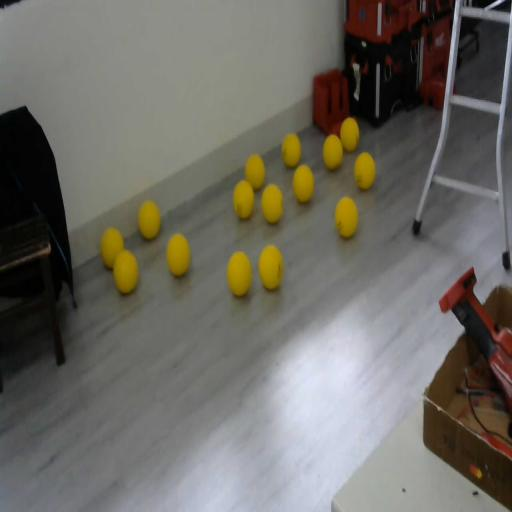FUEL: (226, 250, 252, 297), (112, 248, 138, 295), (258, 243, 283, 291), (165, 232, 191, 277), (334, 195, 358, 239), (232, 178, 255, 220), (137, 198, 160, 240), (261, 183, 284, 224), (292, 164, 314, 204), (354, 151, 376, 190), (245, 154, 265, 191), (281, 132, 302, 167), (340, 116, 360, 152), (323, 134, 343, 170)
